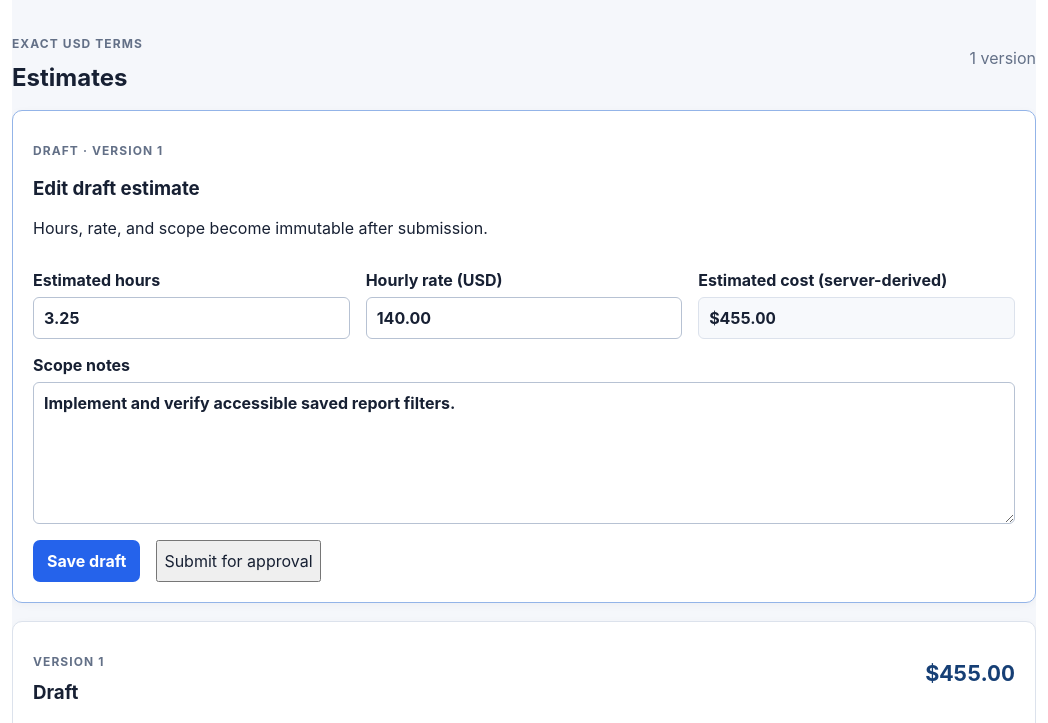
Test: estimate workflow UI › announces stale-state conflicts and refetches the latest draft
Expected: the heading "Edit draft estimate" is shown, [33,177,200,200]
Replace the text in the field labelled "Estimated hours" with "4.00" at (191, 318), box [33,297,350,339]
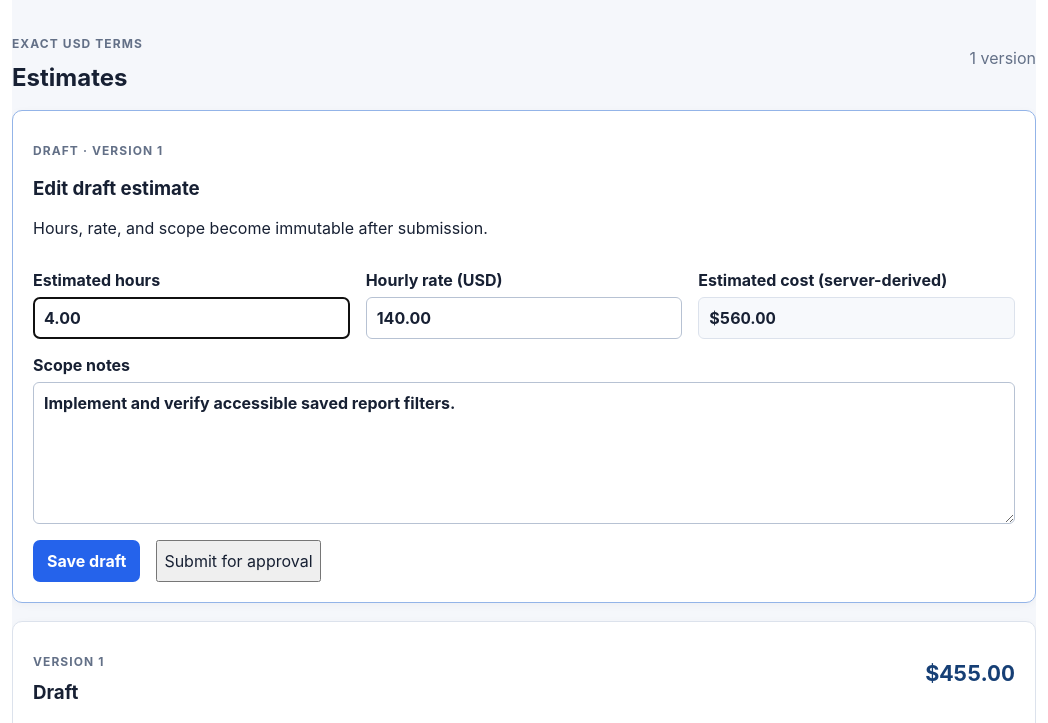
Click the button "Save draft" at (87, 561), box [33,540,140,582]
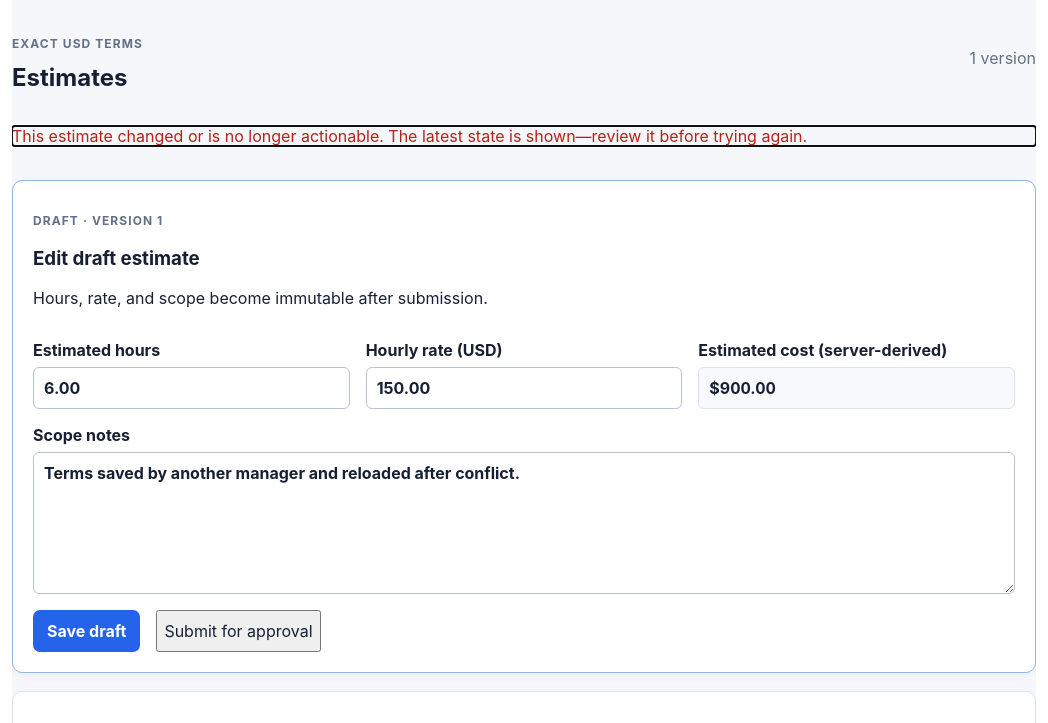
Result: the field labelled "Estimated hours" holds "6.00" at [33,367,350,409]
Result: the field labelled "Hourly rate (USD)" holds "150.00" at [366,367,682,409]
Result: the text box labelled "Scope notes" holds "Terms saved by another manager and reloaded after conflict." at [33,452,1015,594]
